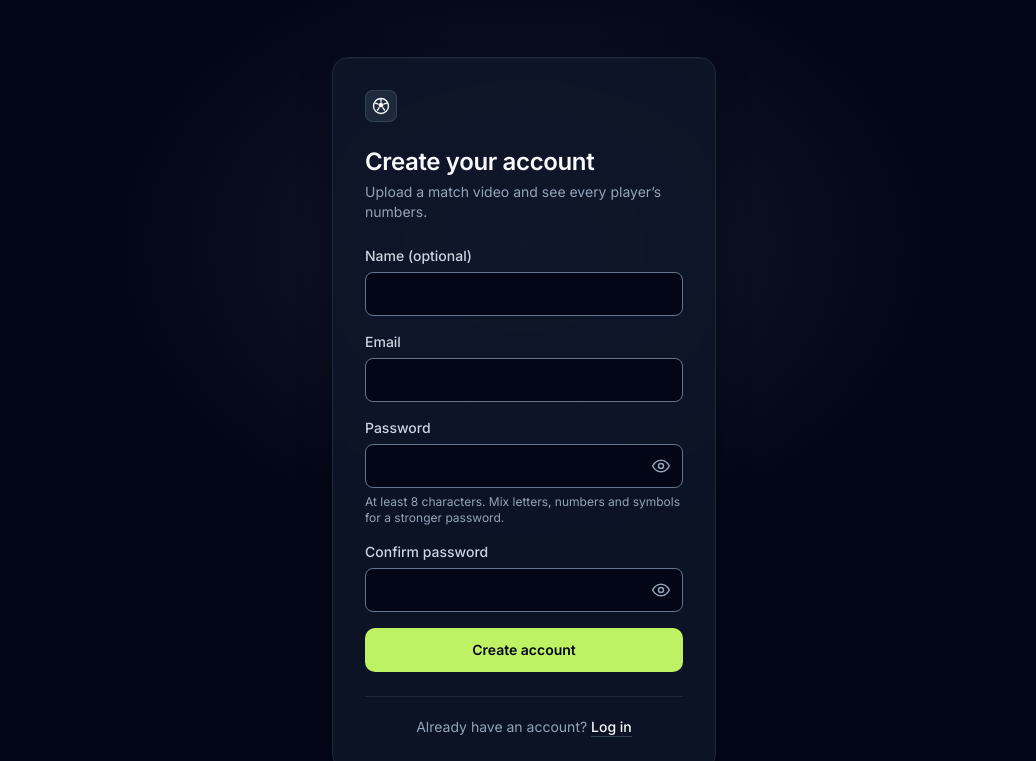
Test case: Signup › explains a 409 (email already registered)
Type "faisal@example.com" into the field labelled "Email".
click(524, 380); type("faisal@example.com")  # box [365, 358, 683, 402]
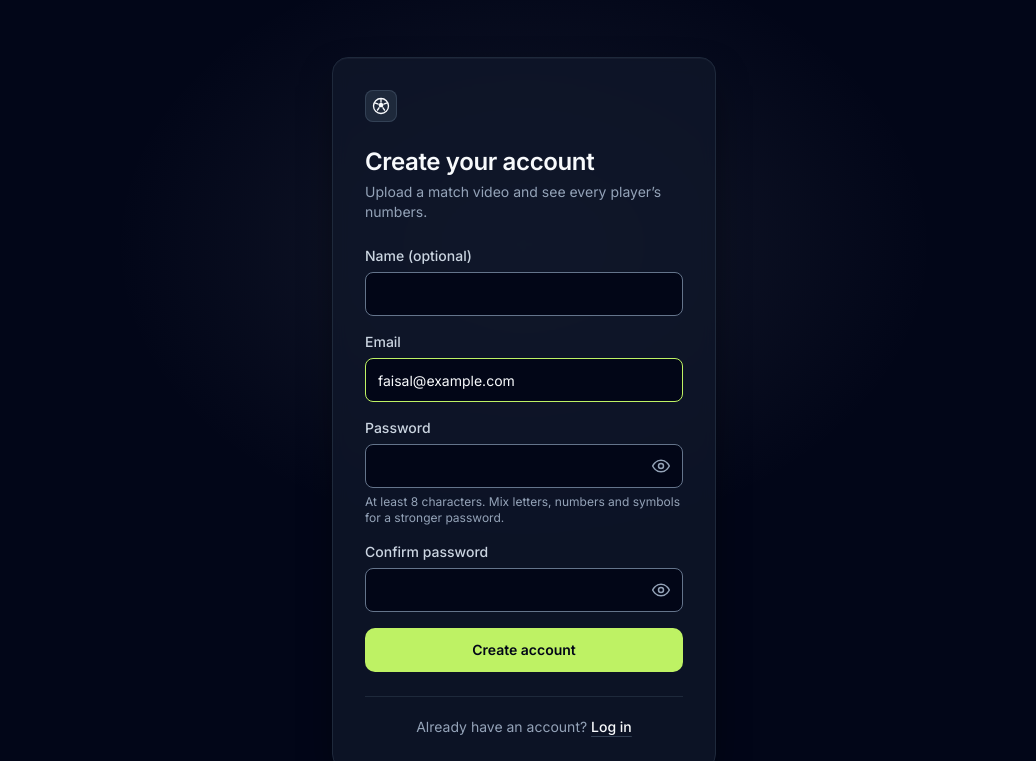
Type "longenough1" into the password field labelled "Password".
click(524, 466); type("longenough1")  # box [365, 444, 683, 488]
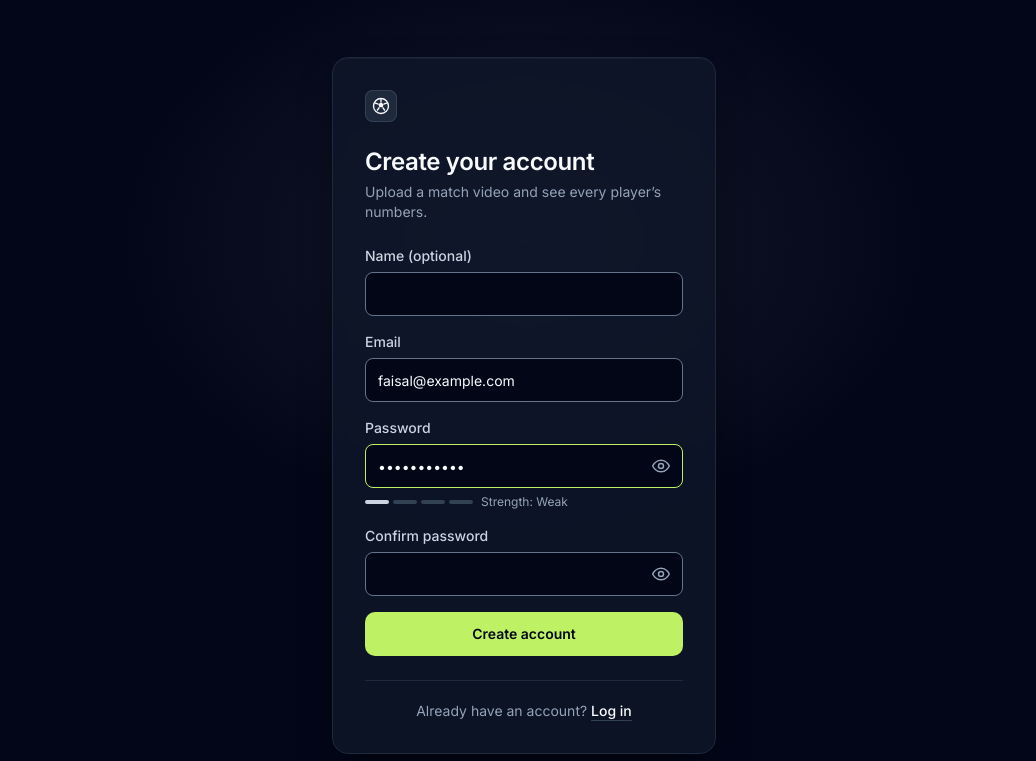
Type "longenough1" into the password field labelled "Confirm password".
click(524, 574); type("longenough1")  # box [365, 552, 683, 596]
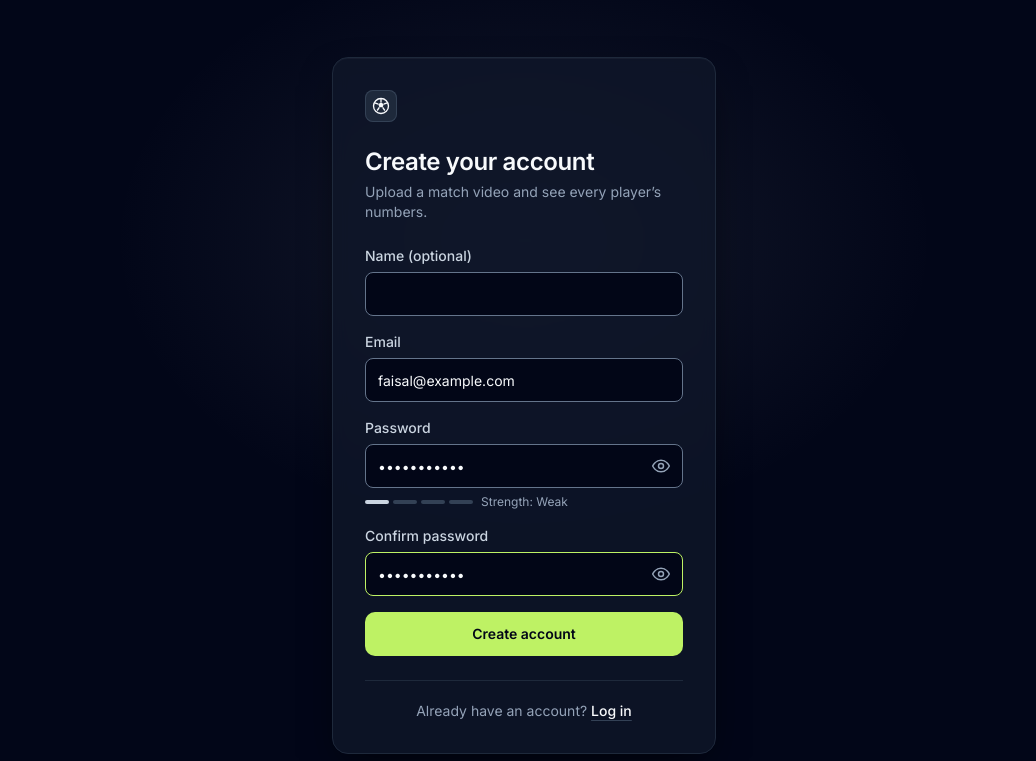
Click the button "Create account".
click(524, 634)  # box [365, 612, 683, 656]
(page scrolled)
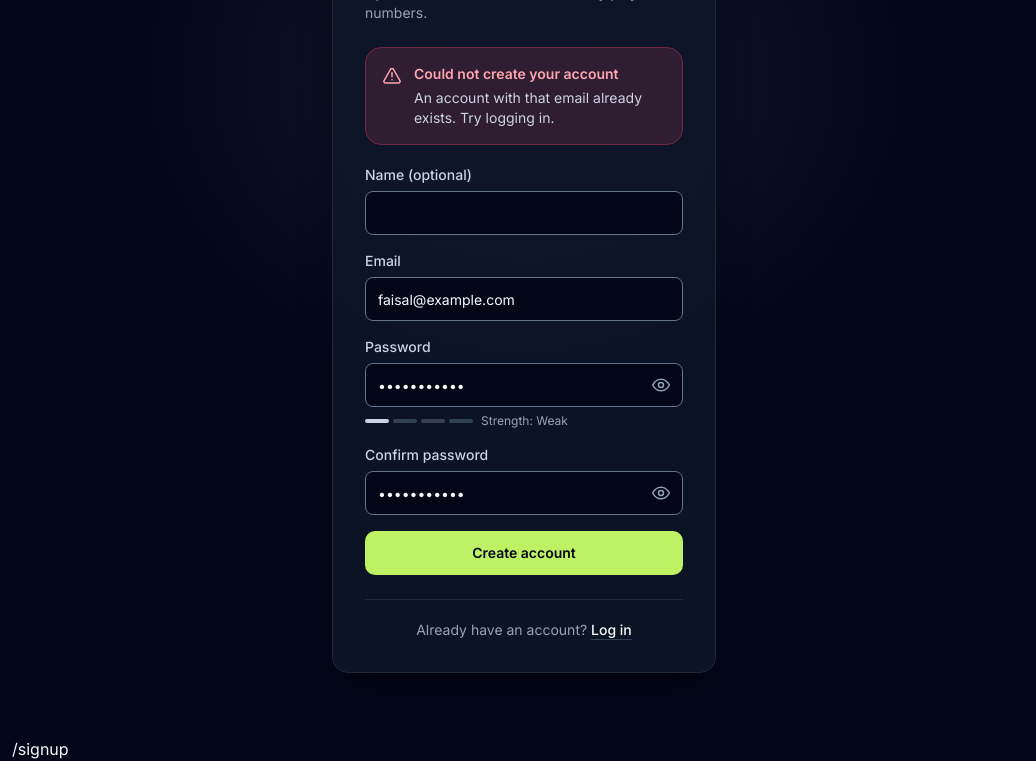
Expected: the text with test id "location" reads "/signup", [12, 739, 69, 759]
Expected: the message shows "An account with that email already exists. Try logging in.", [414, 89, 642, 126]
